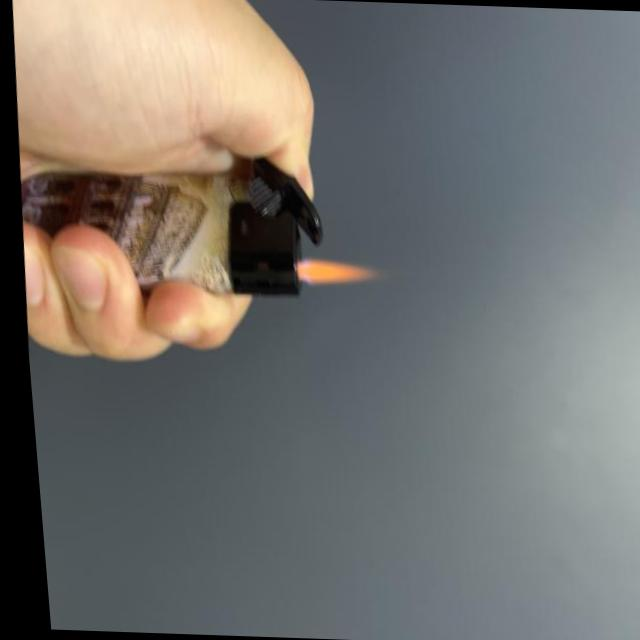Fire: (291, 256, 380, 289)
